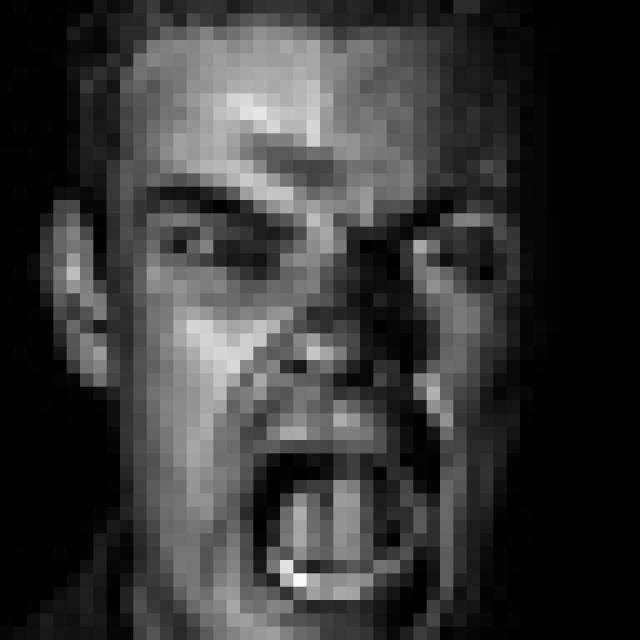angry: (148, 179, 507, 620)
